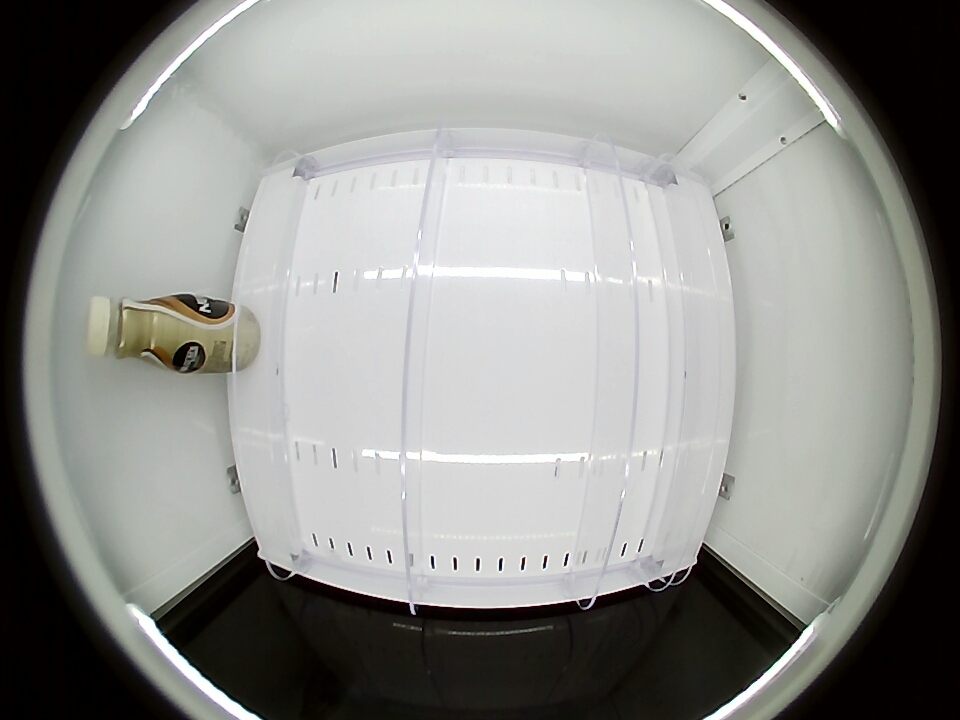kafei: (85, 294, 195, 370)
